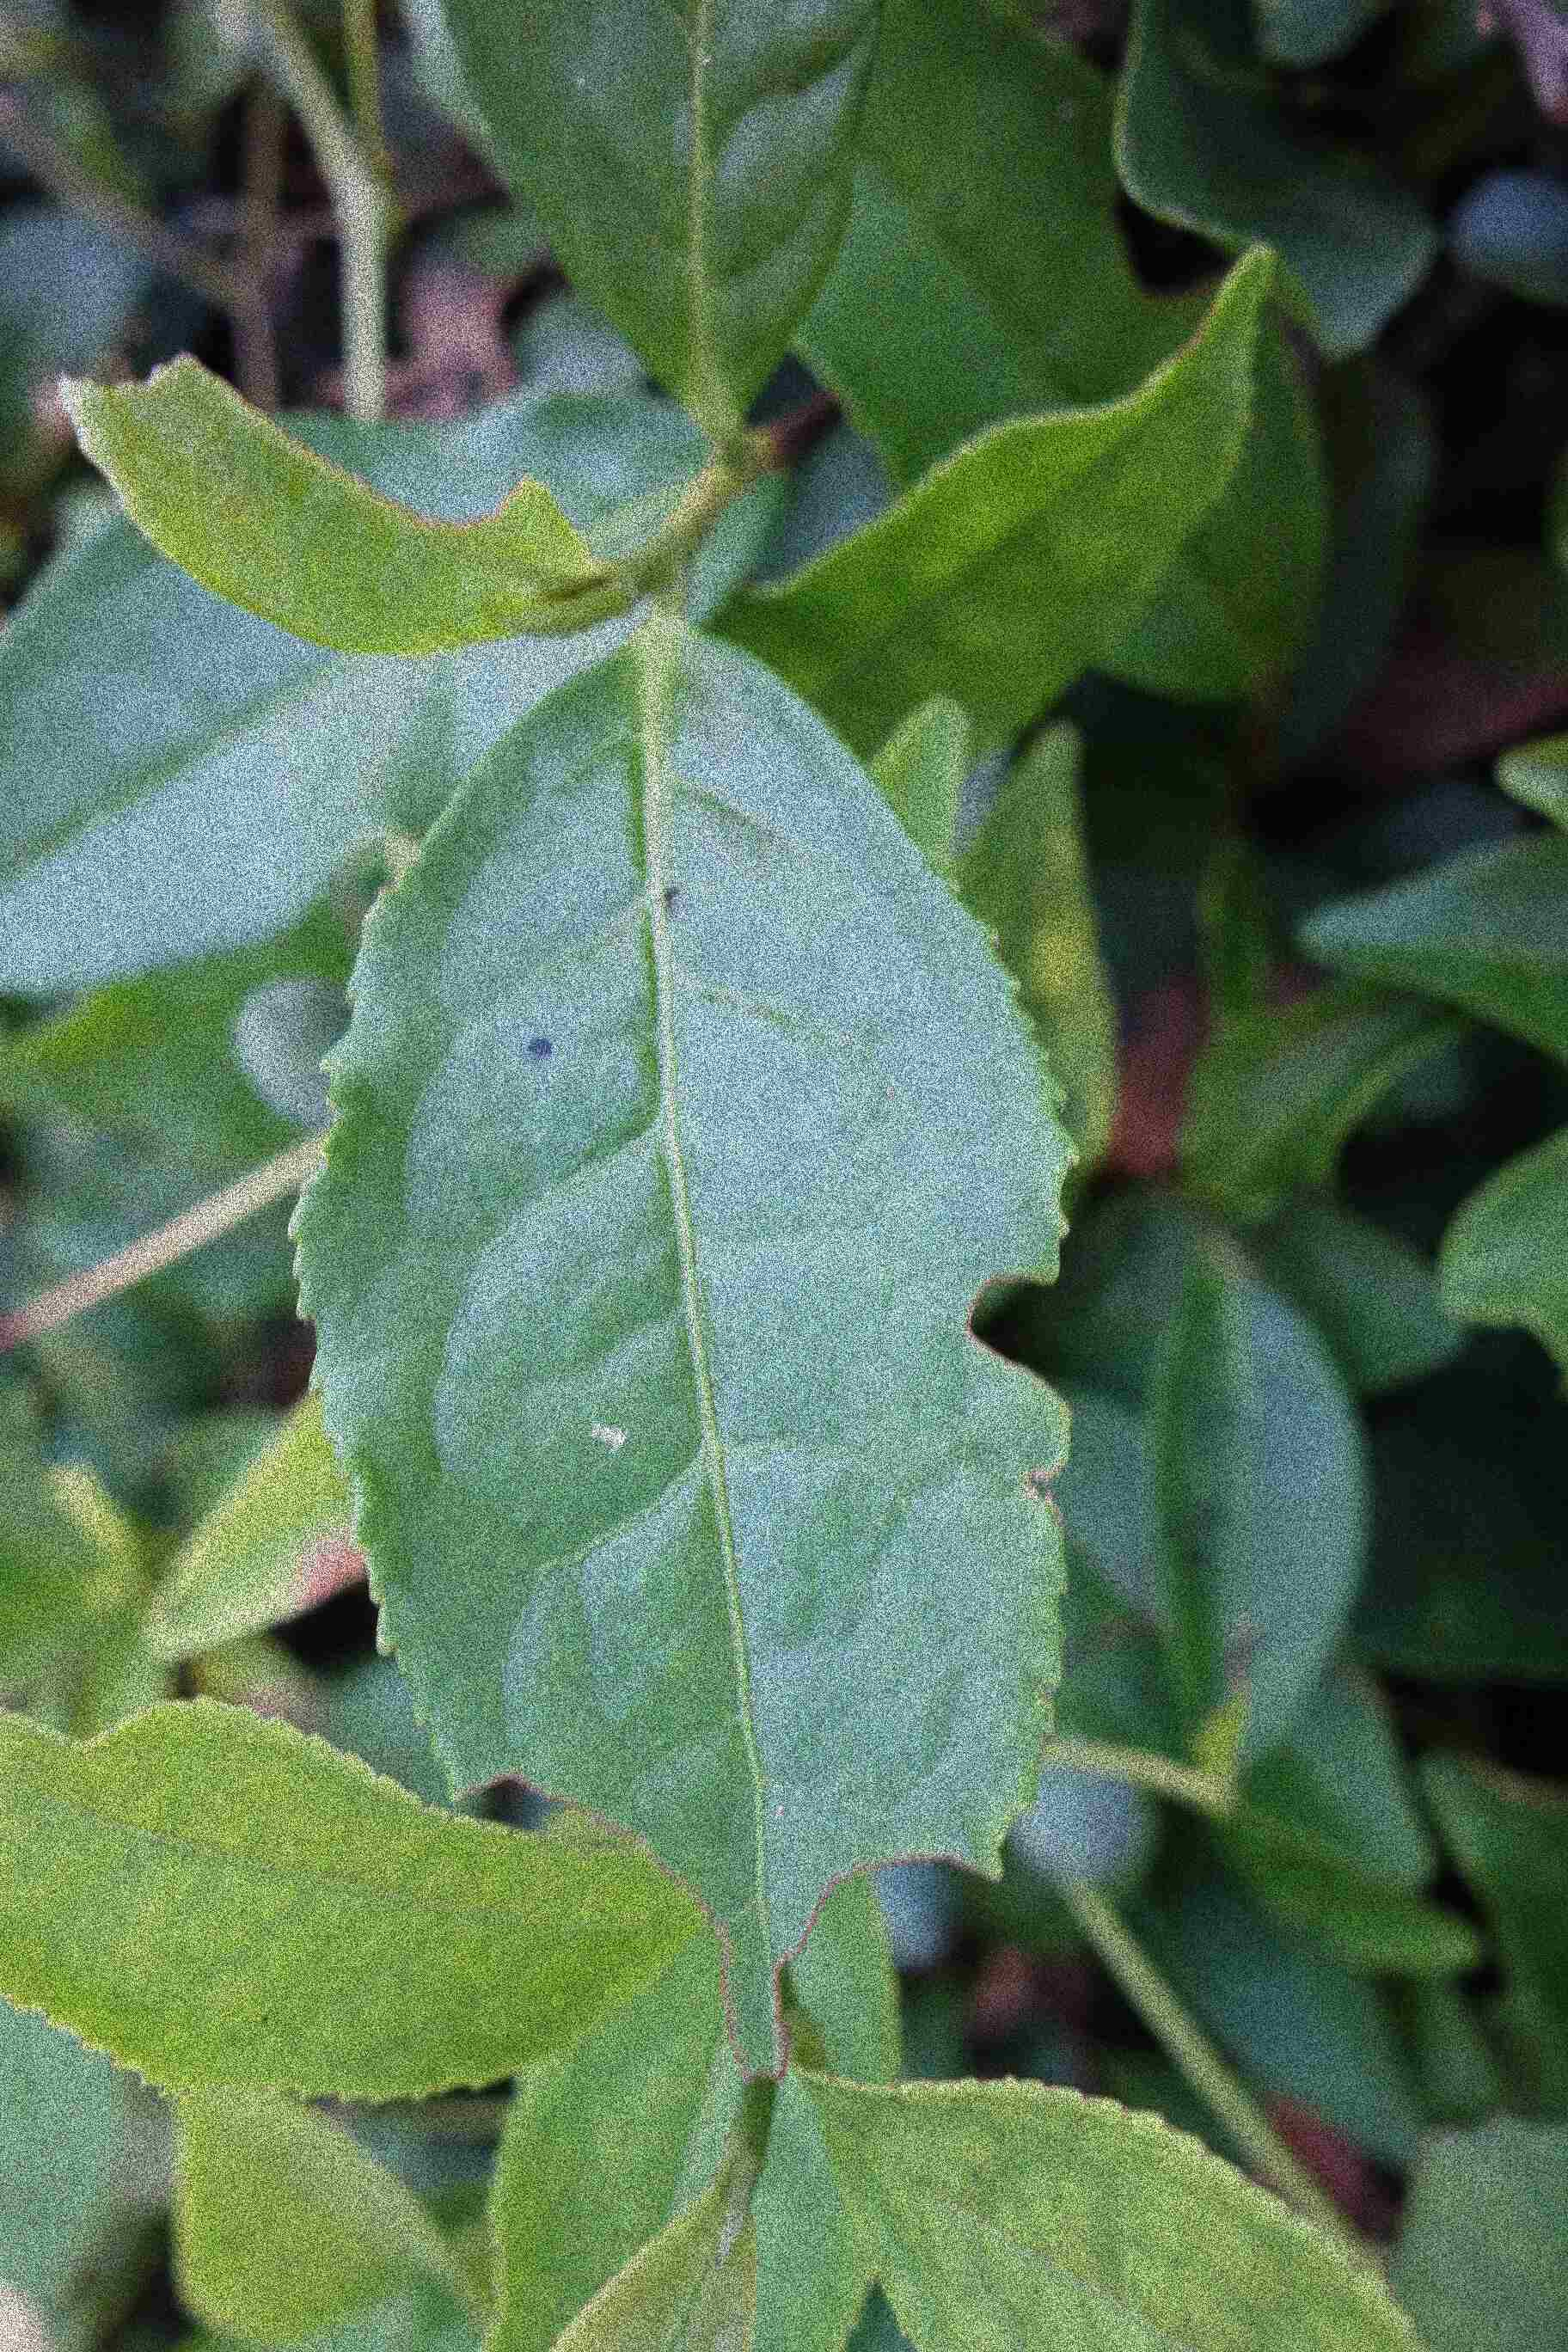chihuo_high: (283, 621, 1090, 2077), (51, 346, 661, 660)
